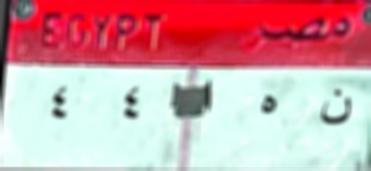4: (122, 83, 148, 128), (50, 80, 72, 122)
alif: (198, 72, 221, 114)
haa: (250, 83, 287, 125)
noon: (316, 88, 356, 136)
